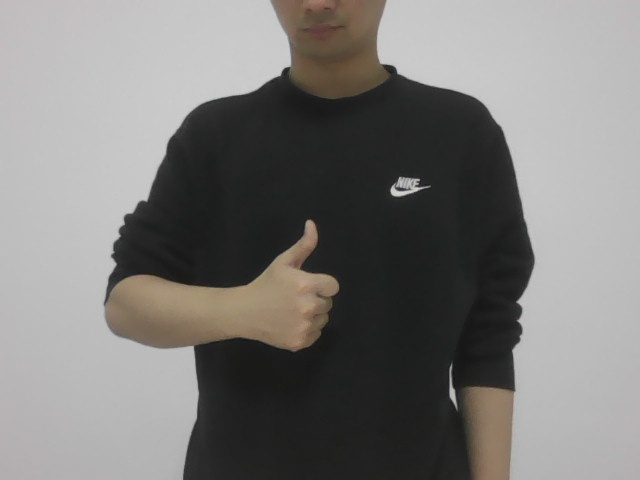good: (245, 216, 357, 371)
